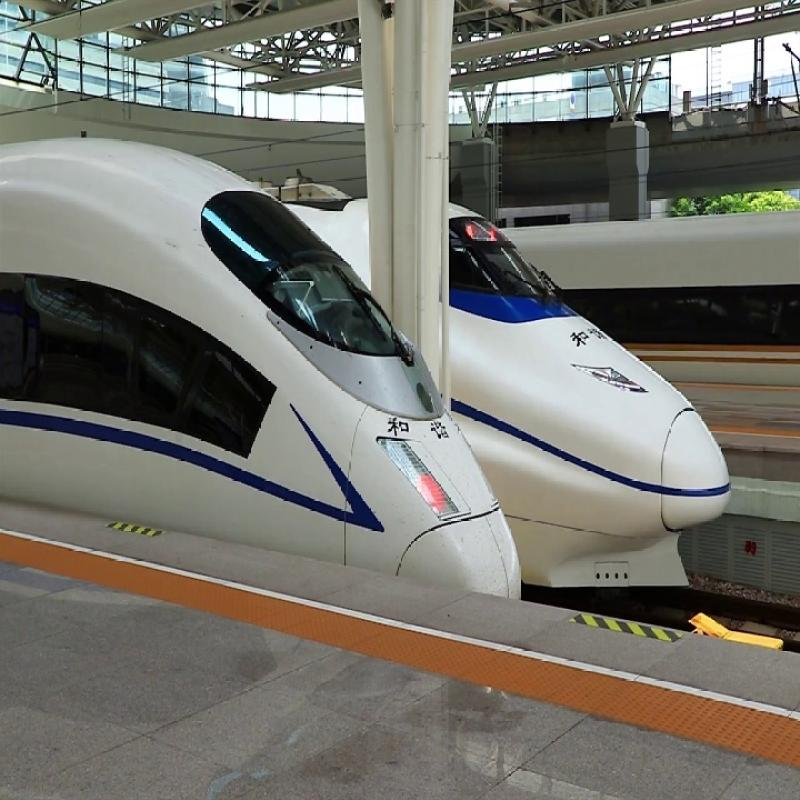train: (7, 142, 529, 612), (273, 176, 739, 546)
